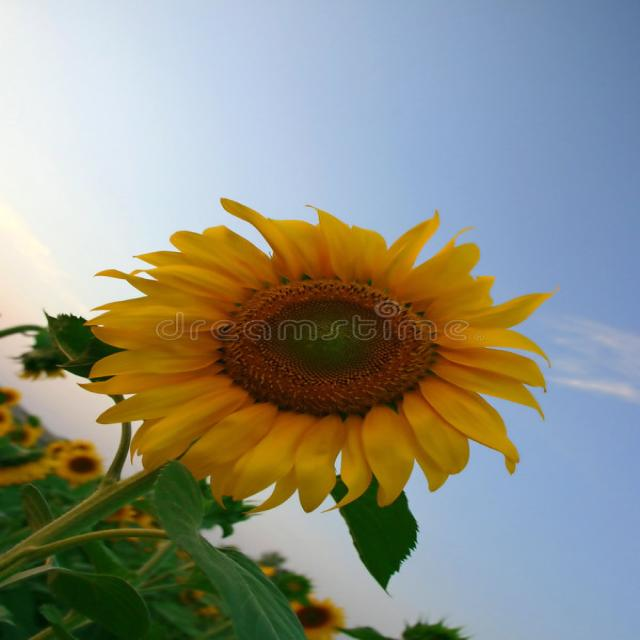sunflower: (48, 188, 575, 512)
